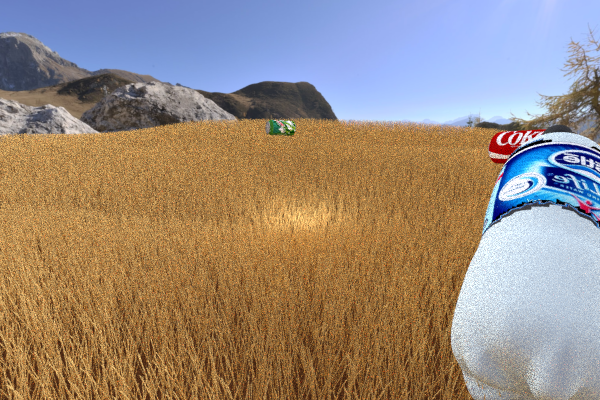bottle: (450, 124, 600, 400)
can: (488, 128, 579, 165), (265, 119, 296, 135)
